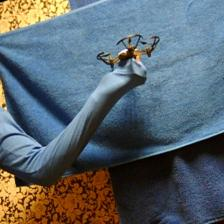drone: (96, 31, 162, 70)
